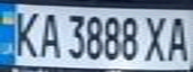3: (63, 10, 87, 60)
8: (81, 11, 106, 61), (118, 12, 142, 62), (103, 12, 124, 62)
A: (163, 12, 193, 63), (33, 9, 63, 60)
K: (9, 7, 42, 60)
X: (142, 12, 172, 63)
